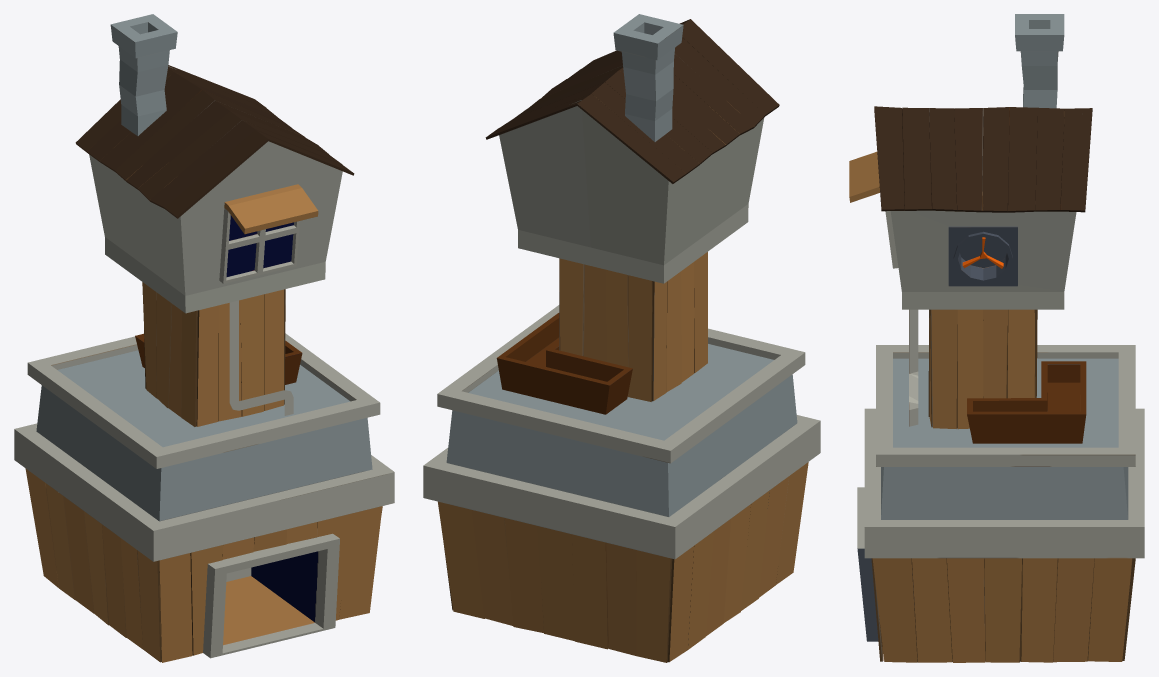
3 views of the same model, side by side, from view 1: azimuth 30°, elevation 25°; view 2: azimuth 150°, elevation 25°; view 3: azimuth 270°, elevation 25° (orthographic). The views are drawn at different scales.
Visible parts, largest first — view 1: 立方体.001; view 2: 立方体.001; view 3: 立方体.001.
Boxes of the visible parts, <box> form: 立方体.001: <box>14,14,394,662</box>; 立方体.001: <box>423,14,820,662</box>; 立方体.001: <box>849,14,1144,662</box>.
Size of the model in its own units: 140 by 313 by 148.
